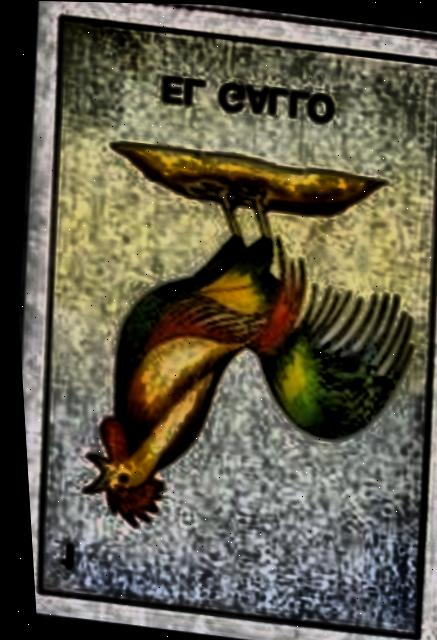El Gallo: (8, 18, 437, 639)
